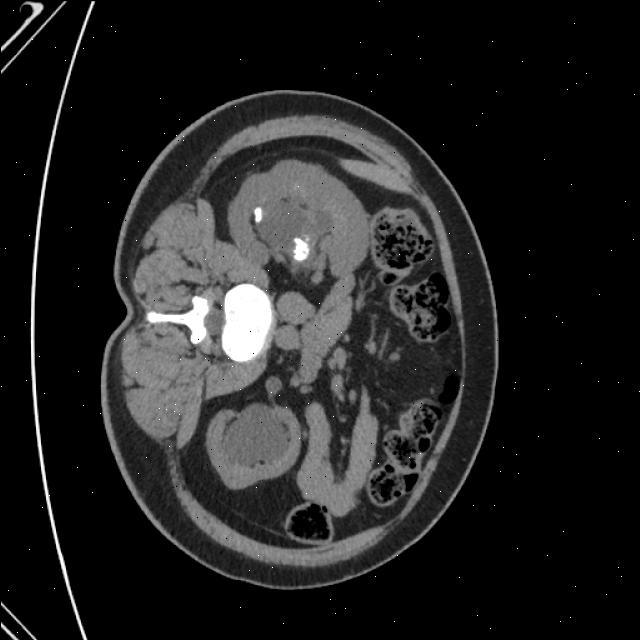kidneystone: (292, 238, 309, 261), (252, 206, 261, 224)
